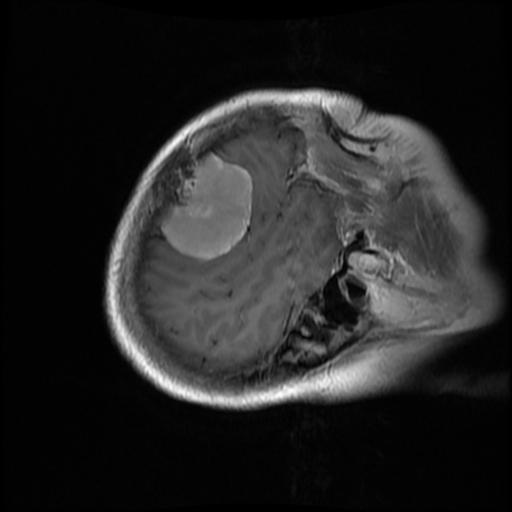meningioma: (160, 155, 252, 261)
